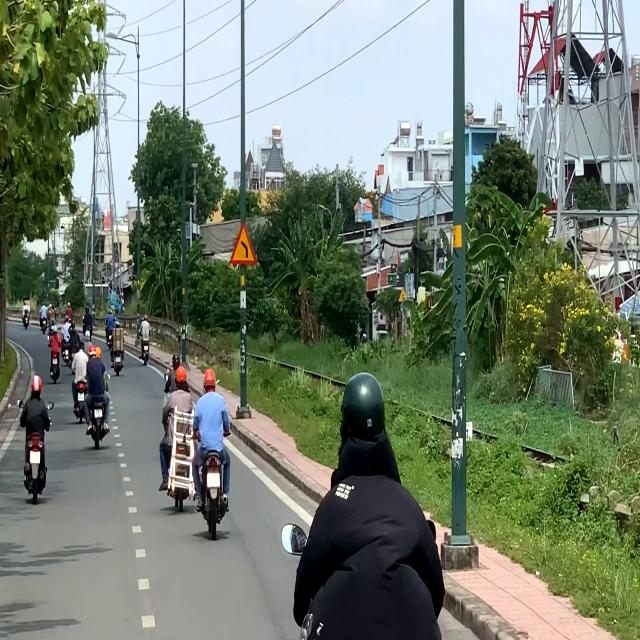W.201a: (229, 222, 257, 264)
